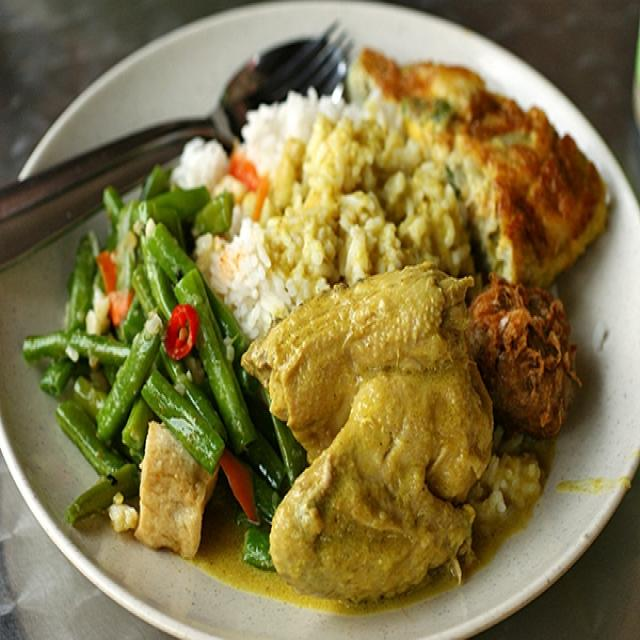米饭主食: (19, 40, 608, 626)
